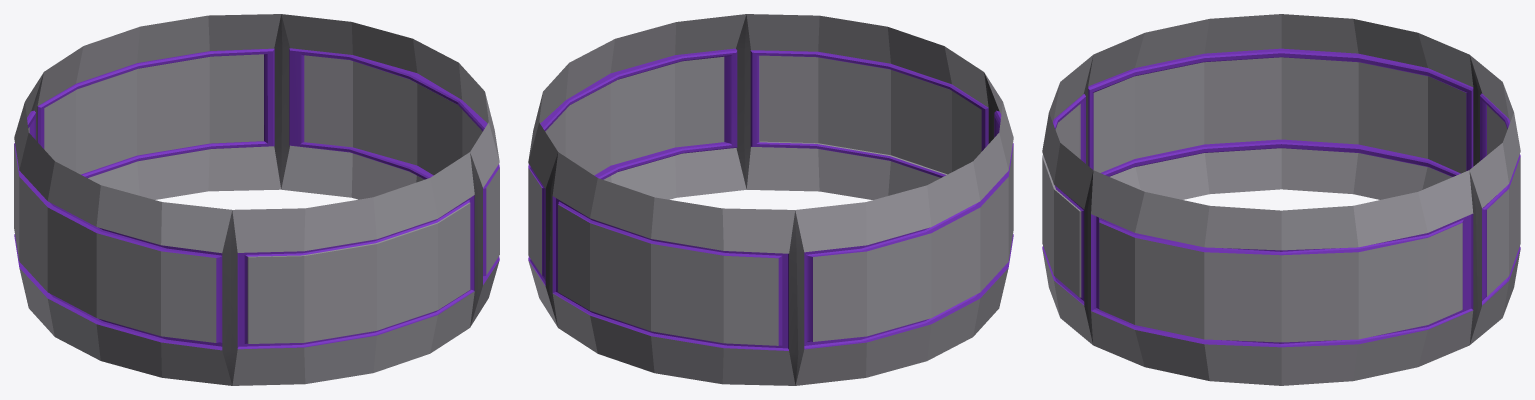
The model's file is WindowDetailed.fbx.
3 views of the same model, side by side, from view 1: azimuth 30°, elevation 25°; view 2: azimuth 150°, elevation 25°; view 3: azimuth 270°, elevation 25° (orthographic).
Parts seen in each view (by area): view 1: pCylinder8; view 2: pCylinder8; view 3: pCylinder8.
Part boxes in pixels (<box>): pCylinder8: <box>14,14,499,385</box>; pCylinder8: <box>528,14,1013,385</box>; pCylinder8: <box>1042,14,1520,385</box>.
Size of the model in its own units: 237 by 96.27 by 238.
